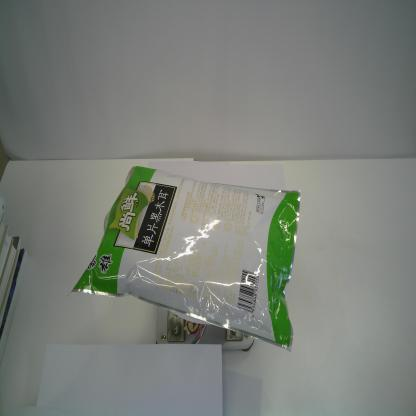Dried Food: (64, 163, 300, 355)
